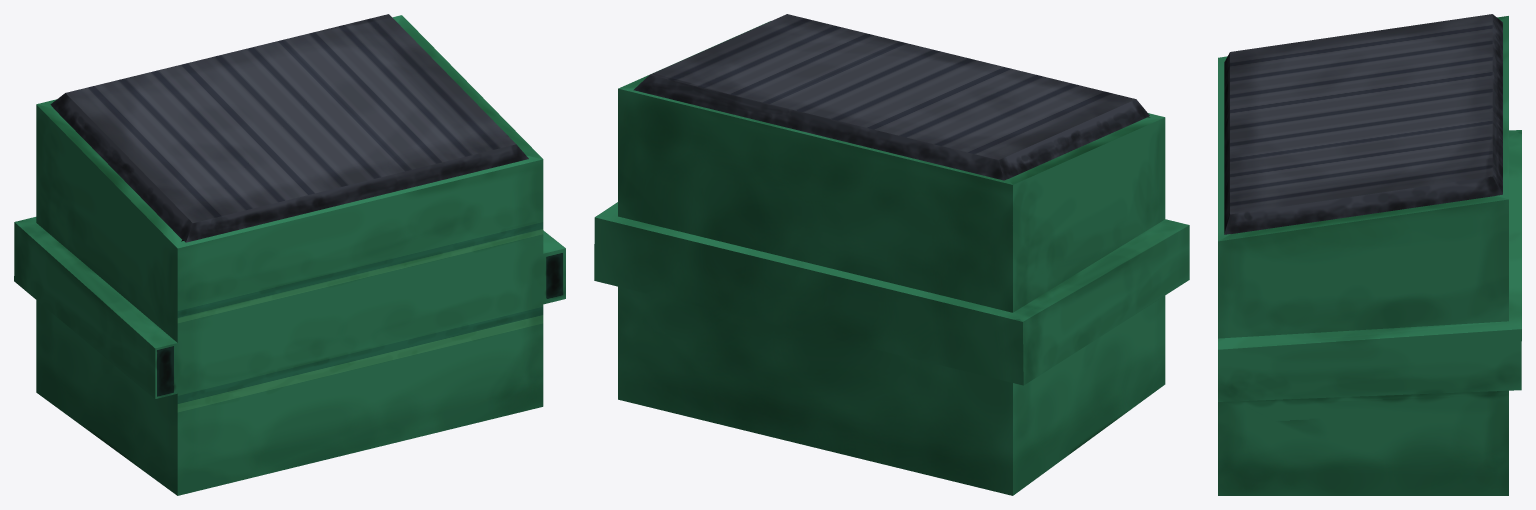
The model's file is dumpster.gltf.
3 views of the same model, side by side, from view 1: azimuth 30°, elevation 25°; view 2: azimuth 150°, elevation 25°; view 3: azimuth 270°, elevation 25° (orthographic). The views are drawn at different scales.
Parts seen in each view (by area): view 1: Dumpster, DumpsterOpener; view 2: Dumpster, DumpsterOpener; view 3: Dumpster, DumpsterOpener.
Boxes of the visible parts, box(x1,y1,x2,y2) form: Dumpster: box(14, 15, 565, 495); DumpsterOpener: box(50, 14, 528, 242); Dumpster: box(594, 21, 1189, 495); DumpsterOpener: box(633, 14, 1149, 180); Dumpster: box(1218, 16, 1521, 495); DumpsterOpener: box(1224, 14, 1502, 234).
Bounding box in the file's own units: 2.68 × 1.88 × 1.67.
2 materials, 2 textured.
